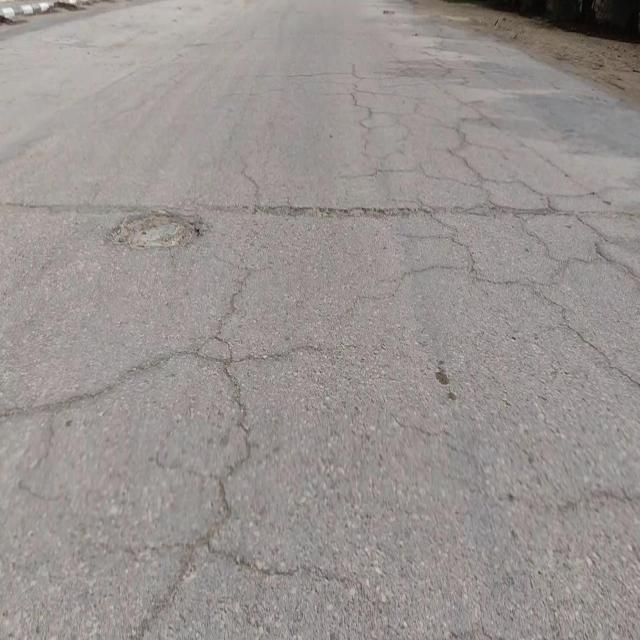Potholes: (105, 208, 207, 250)
